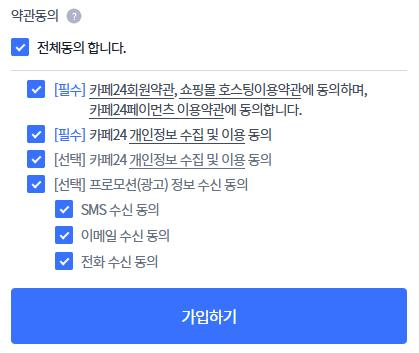button: (12, 290, 406, 343)
checkbox: (24, 79, 372, 116), (26, 150, 277, 170), (27, 125, 278, 142), (23, 176, 256, 192), (54, 198, 170, 221), (10, 35, 127, 57), (52, 226, 176, 245), (53, 249, 156, 271)
